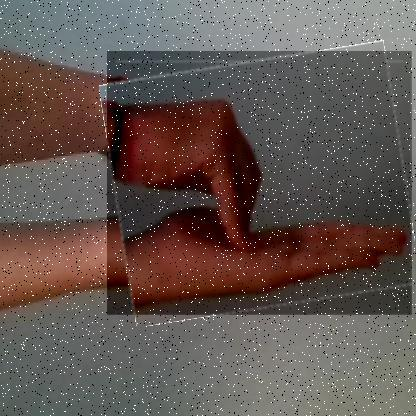Z: (107, 51, 413, 316)
